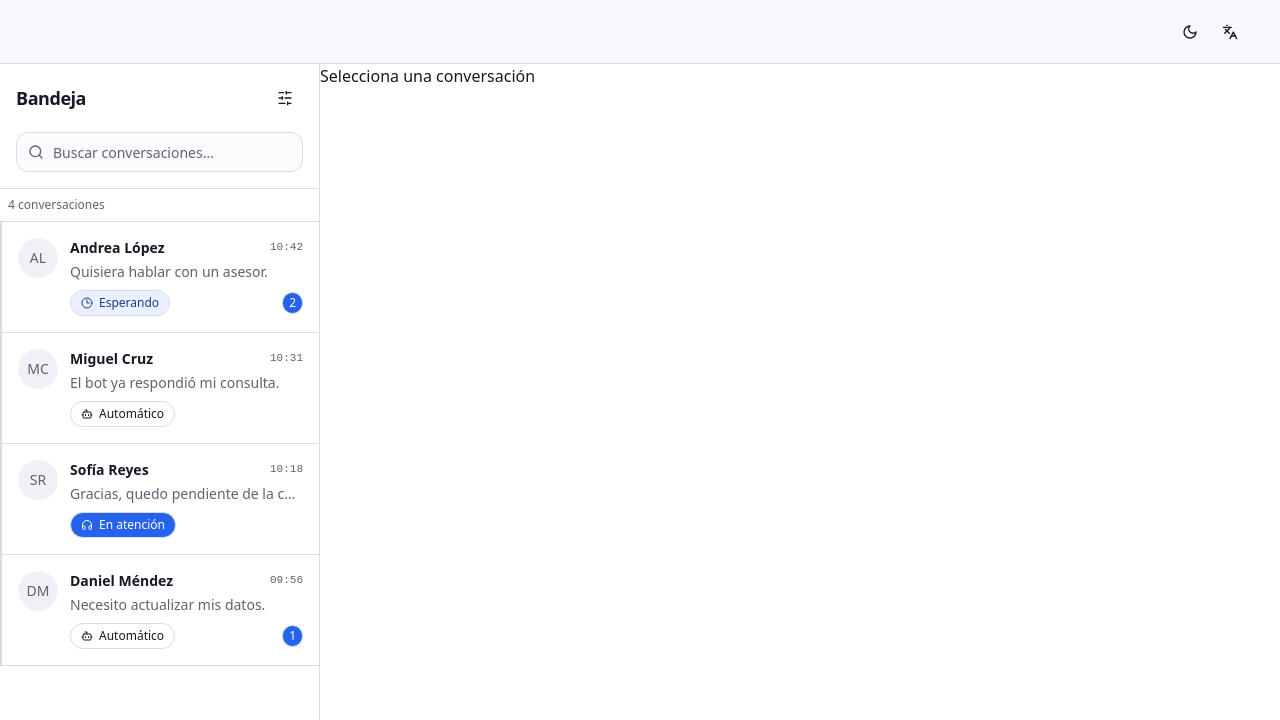
it: buscar sin coincidencias permite limpiar y recuperar la lista
The image size is (1280, 720).
Type "nadie" into the field labelled "Buscar conversaciones" at (160, 152), box [16,132,303,172]
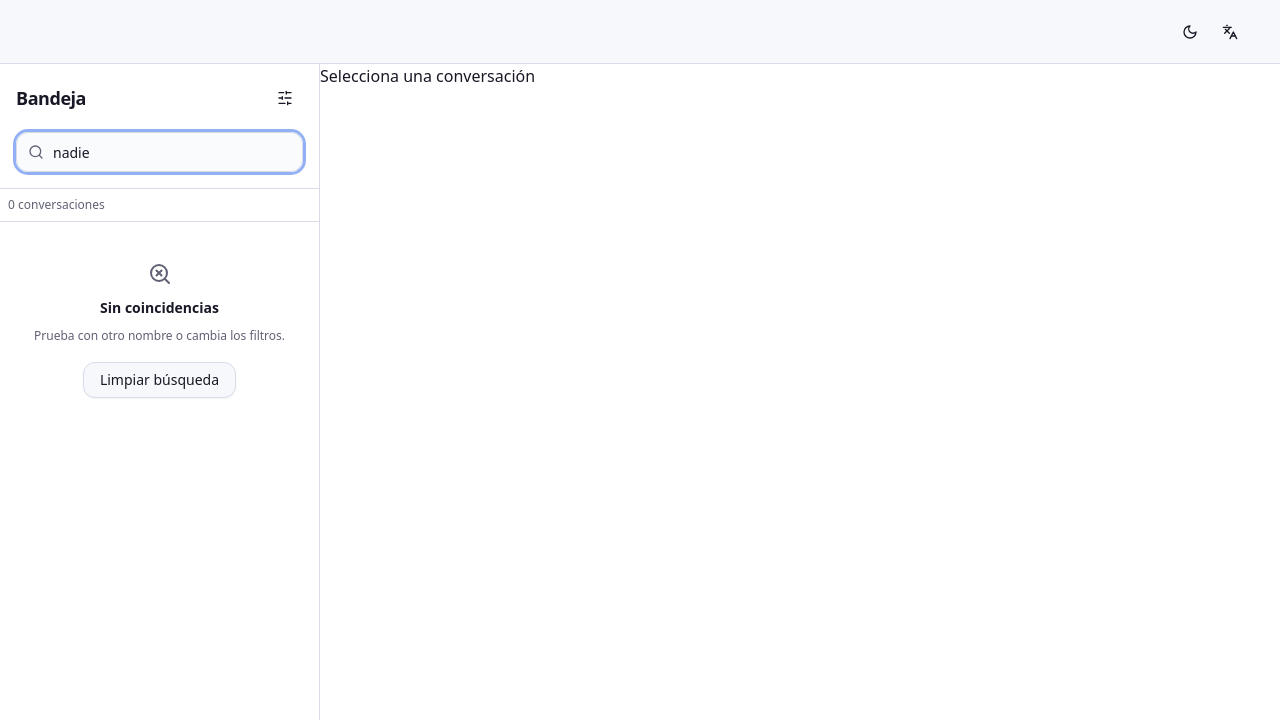
Now the heading "Sin coincidencias" is shown, box [100,298,219,317]
Now the link "Andrea López" is gone
Click the button "Limpiar búsqueda" at (159, 380), box [83,362,236,398]
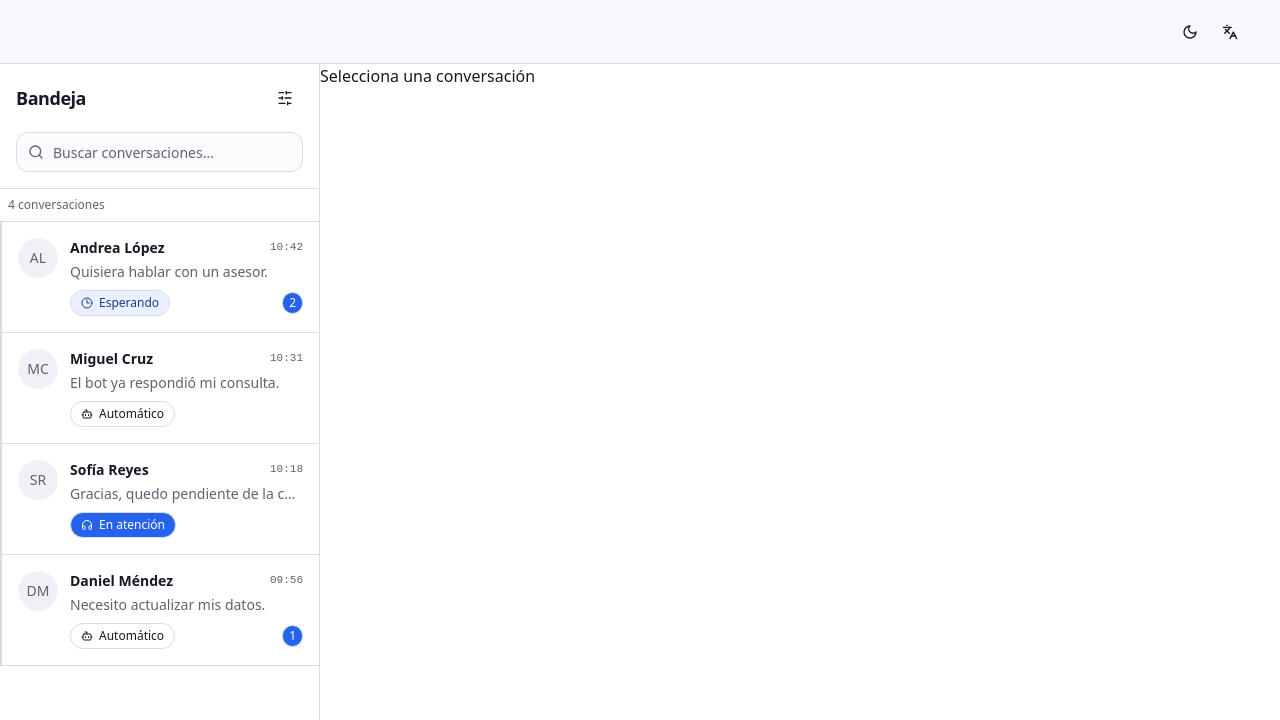
Now the link "Andrea López" is shown, box [0,222,319,333]
Now the field labelled "Buscar conversaciones" is empty, box [16,132,303,172]
